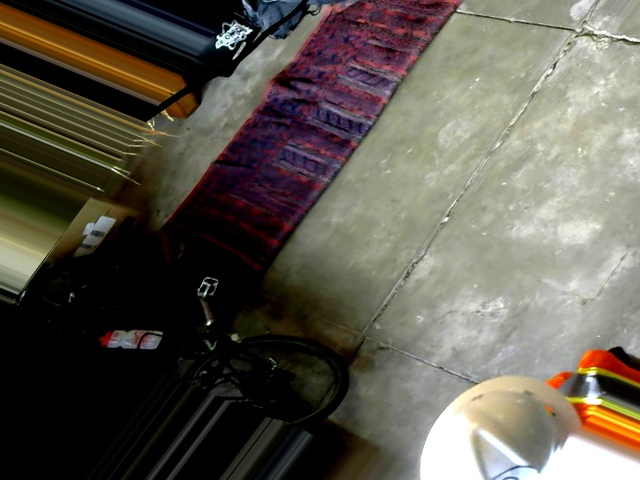eight: (471, 455, 547, 479)
